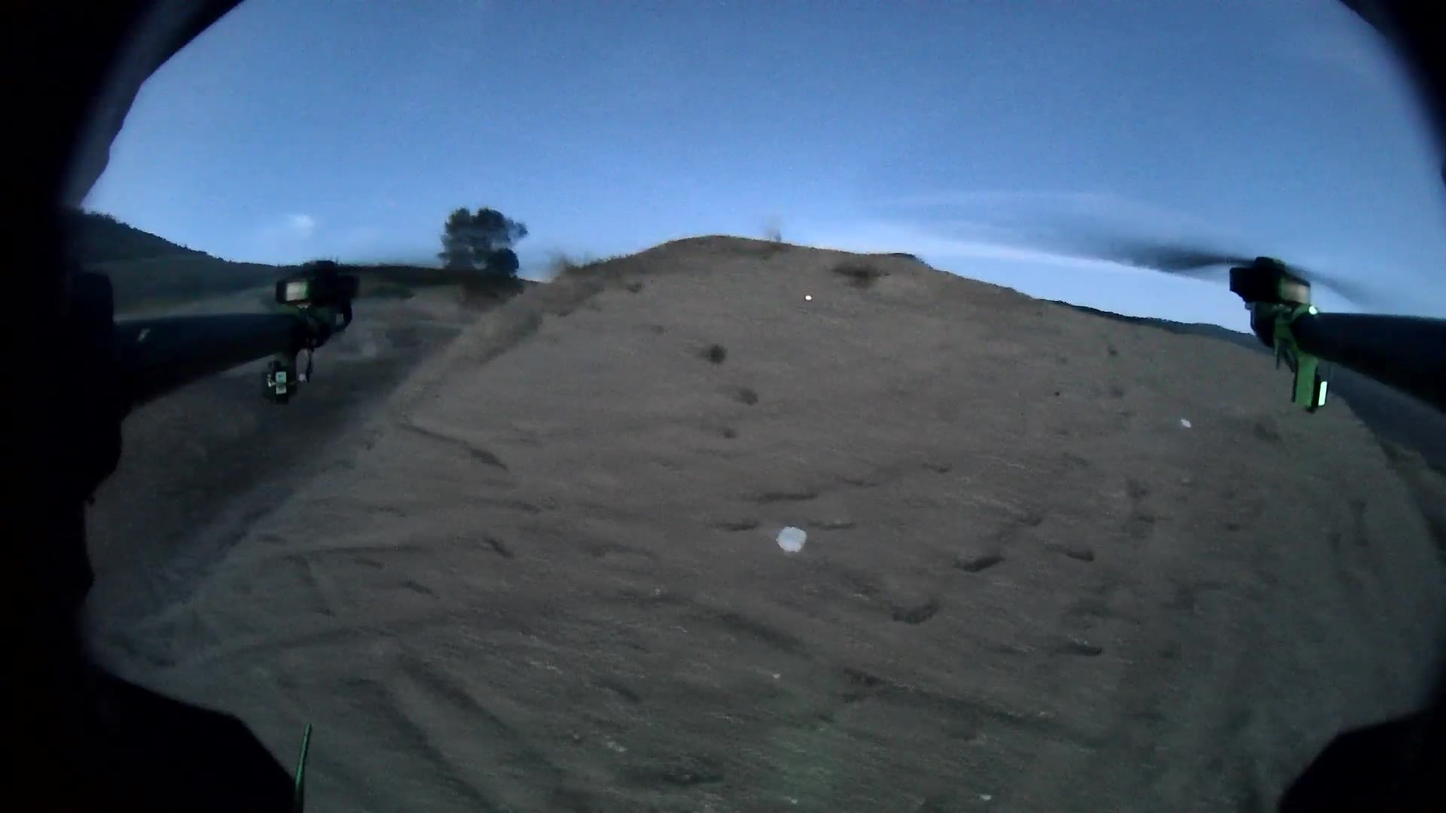Target: (776, 525, 809, 554)
